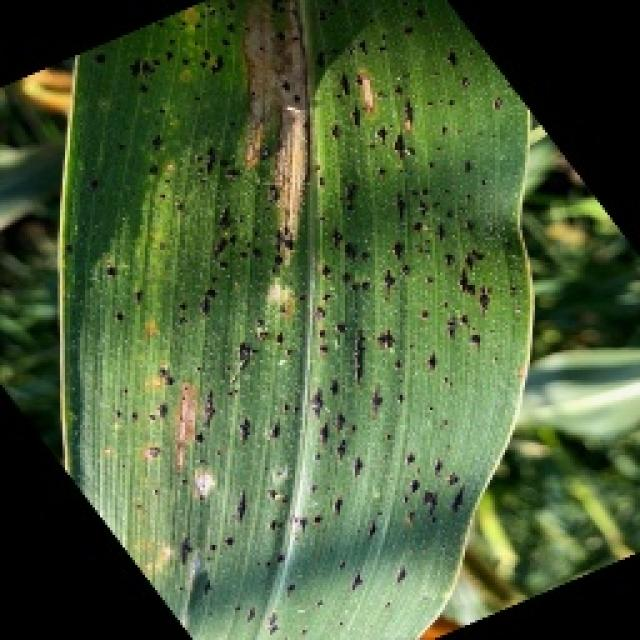Tar_Spot: (171, 120, 285, 607), (290, 269, 493, 523)
